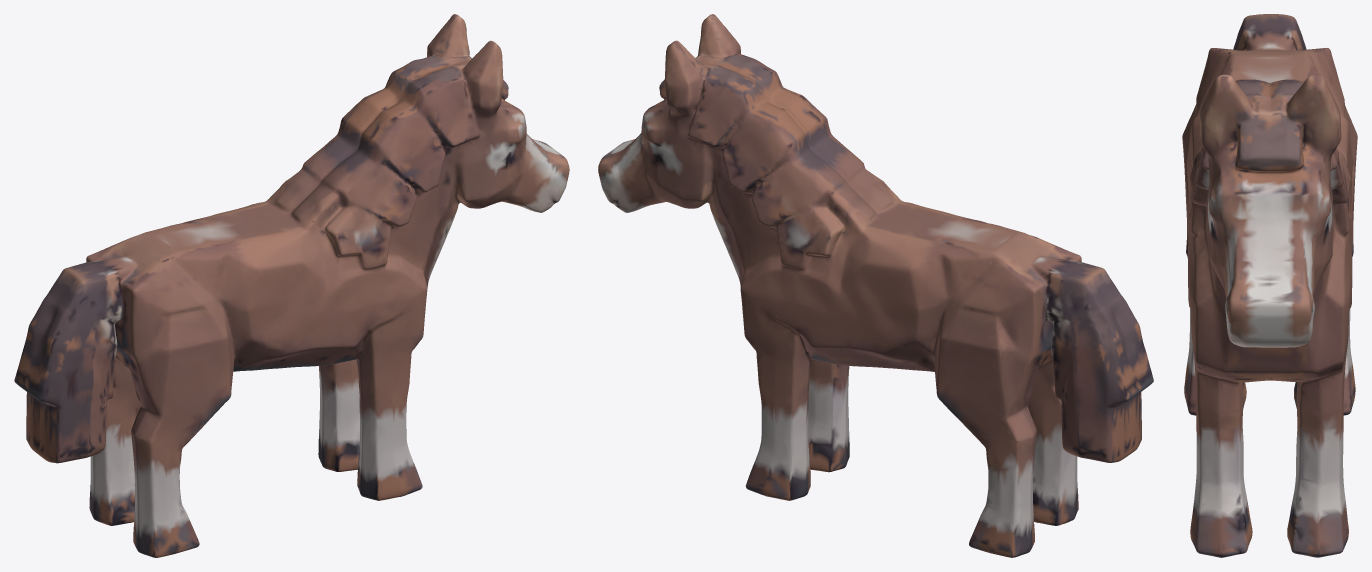
File: cavalo.glb
The picture shows the model from 3 angles, left to right: view 1: azimuth 30°, elevation 25°; view 2: azimuth 150°, elevation 25°; view 3: azimuth 270°, elevation 25°; orthographic projection. The views are drawn at different scales.
Parts seen in each view (by area): view 1: tmp685x07q5.ply; view 2: tmp685x07q5.ply; view 3: tmp685x07q5.ply.
Boxes of the visible parts, x1,y1,x2,y2 form: tmp685x07q5.ply: (14, 14, 569, 557); tmp685x07q5.ply: (598, 14, 1153, 557); tmp685x07q5.ply: (1182, 14, 1357, 557).
Size of the model in its own units: 2 by 1.53 by 0.4541.
